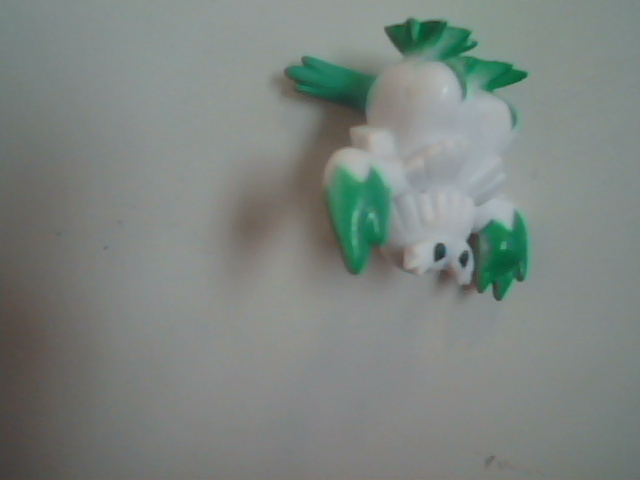abomasnow: (218, 12, 587, 350)
